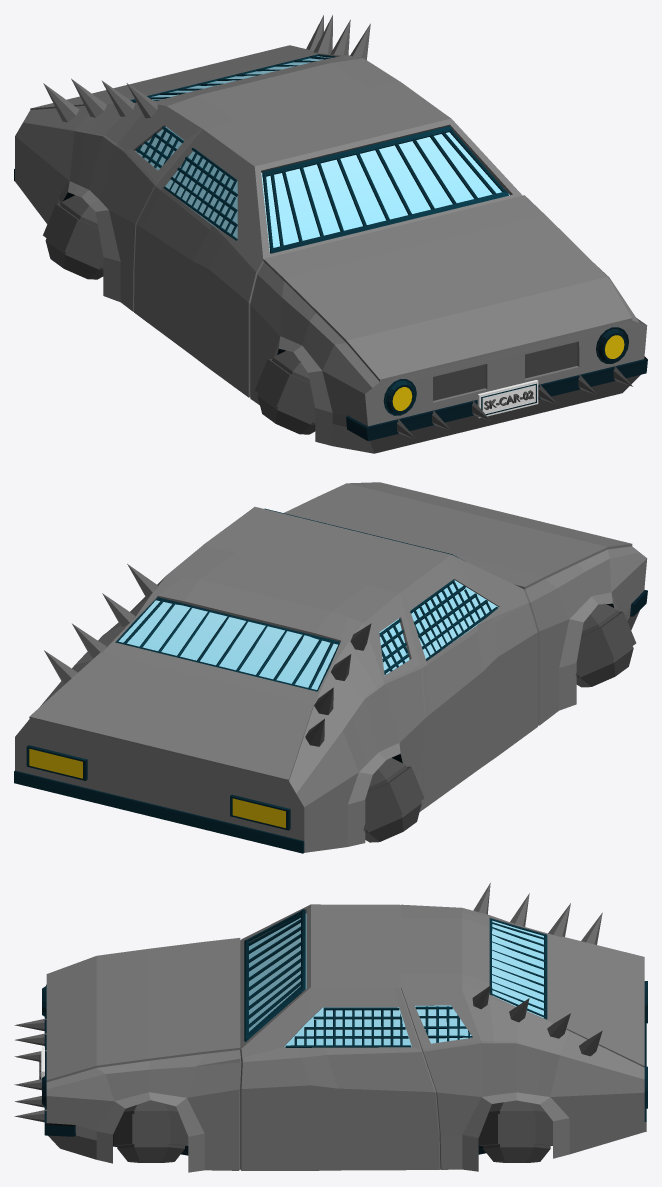
Rendered from SM_Player_Car_02.fbx.
3 views of the same model, one above another, from view 1: azimuth 30°, elevation 25°; view 2: azimuth 150°, elevation 25°; view 3: azimuth 270°, elevation 25° (orthographic). The views are drawn at different scales.
Visible parts, largest first — view 1: SK_Player_Car_02; view 2: SK_Player_Car_02; view 3: SK_Player_Car_02.
Part boxes in pixels (bbox=[...]): SK_Player_Car_02: bbox=[14, 15, 647, 453]; SK_Player_Car_02: bbox=[14, 482, 647, 853]; SK_Player_Car_02: bbox=[14, 883, 647, 1172].
Size of the model in its own units: 2.23 by 1.23 by 4.
Materials: 2 (2 with a texture image).
